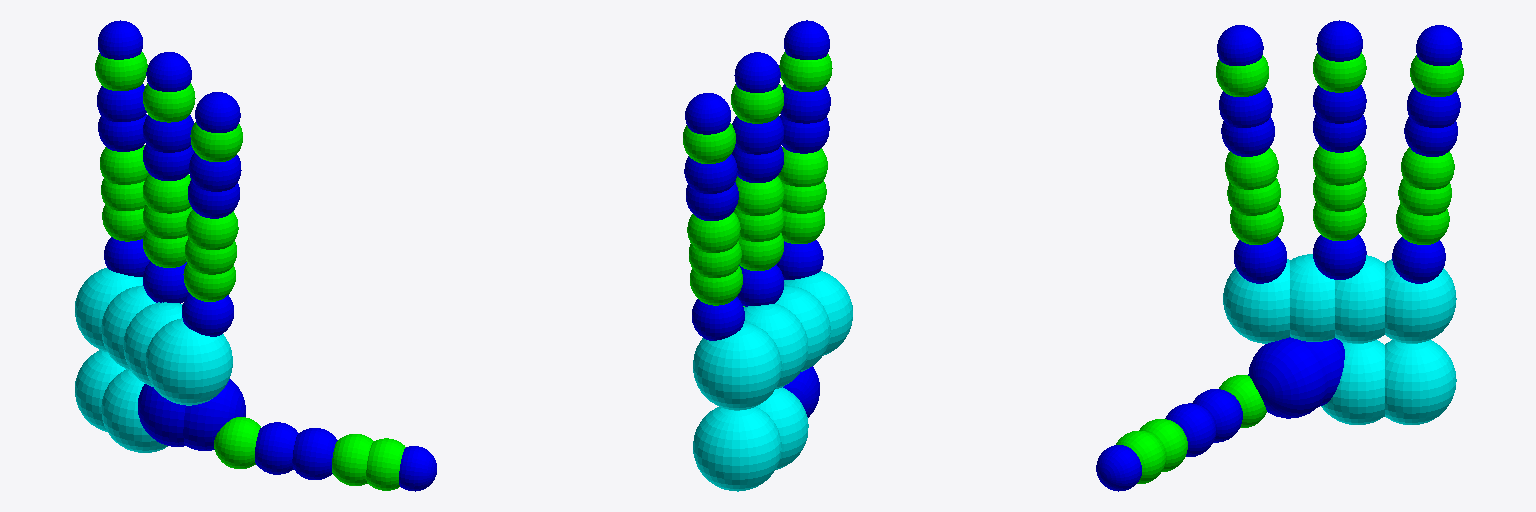
--- Render facts (derived) ---
Views: 3 orthographic renders of the robot side by side, from view 1: azimuth 30°, elevation 25°; view 2: azimuth 150°, elevation 25°; view 3: azimuth 270°, elevation 25°.
Model allegro_left with 67 links and 66 joints (19 revolute, 3 prismatic, 44 fixed), rooted at base_link_x, posed joints at zero except 1 at the middle of their limits (joint_12.0 = 0.8295).
Visible links, largest first — view 1: base_link_collision_ball_5, base_link_collision_ball_2, base_link_collision_ball_1, link_12.0_collision_ball_1, base_link_collision_ball_4, base_link_collision_ball_0, link_12.0_collision_ball_0, base_link_collision_ball_3, link_14.0_collision_ball_1, link_13.0_collision_ball_0, link_14.0_collision_ball_0, link_8.0_collision_ball_0 (+26 smaller); view 2: base_link_collision_ball_0, base_link_collision_ball_1, base_link_collision_ball_3, base_link_collision_ball_2, base_link_collision_ball_5, base_link_collision_ball_4, link_0.0_collision_ball_0, link_1.0_collision_ball_2, link_11.0_collision_ball_0, link_3.0_tip_collision_ball_0, link_7.0_collision_ball_0, link_7.0_tip_collision_ball_0 (+19 smaller); view 3: base_link_collision_ball_0, link_12.0_collision_ball_1, base_link_collision_ball_1, base_link_collision_ball_5, base_link_collision_ball_2, base_link_collision_ball_3, base_link_collision_ball_4, link_4.0_collision_ball_0, link_8.0_collision_ball_0, link_0.0_collision_ball_0, link_1.0_collision_ball_2, link_5.0_collision_ball_2 (+26 smaller).
Boxes of the visible links, x1,y1,x2,y2 form: base_link_collision_ball_5: [145, 318, 232, 405]; base_link_collision_ball_2: [101, 369, 167, 452]; base_link_collision_ball_1: [75, 268, 142, 351]; link_12.0_collision_ball_1: [183, 379, 245, 450]; base_link_collision_ball_4: [123, 302, 182, 386]; base_link_collision_ball_0: [75, 350, 125, 431]; link_12.0_collision_ball_0: [138, 384, 185, 446]; base_link_collision_ball_3: [101, 285, 155, 370]; link_14.0_collision_ball_1: [292, 428, 337, 479]; link_13.0_collision_ball_0: [214, 417, 260, 468]; link_14.0_collision_ball_0: [255, 422, 298, 474]; link_8.0_collision_ball_0: [182, 293, 233, 336]; base_link_collision_ball_0: [693, 407, 781, 491]; base_link_collision_ball_1: [693, 322, 781, 410]; base_link_collision_ball_3: [744, 304, 808, 388]; base_link_collision_ball_2: [756, 387, 808, 469]; base_link_collision_ball_5: [784, 271, 852, 355]; base_link_collision_ball_4: [775, 286, 830, 371]; link_0.0_collision_ball_0: [692, 297, 744, 340]; link_1.0_collision_ball_2: [687, 212, 740, 252]; link_11.0_collision_ball_0: [779, 52, 832, 91]; link_3.0_tip_collision_ball_0: [685, 93, 730, 134]; link_7.0_collision_ball_0: [731, 84, 783, 123]; link_7.0_tip_collision_ball_0: [734, 52, 780, 92]; base_link_collision_ball_0: [1385, 340, 1456, 424]; link_12.0_collision_ball_1: [1248, 337, 1327, 418]; base_link_collision_ball_1: [1385, 259, 1456, 343]; base_link_collision_ball_5: [1223, 259, 1289, 343]; base_link_collision_ball_2: [1321, 340, 1384, 424]; base_link_collision_ball_3: [1335, 255, 1384, 343]; base_link_collision_ball_4: [1290, 254, 1334, 341]; link_4.0_collision_ball_0: [1313, 234, 1366, 279]; link_8.0_collision_ball_0: [1234, 236, 1286, 283]; link_0.0_collision_ball_0: [1392, 237, 1445, 283]; link_1.0_collision_ball_2: [1401, 147, 1454, 189]; link_5.0_collision_ball_2: [1313, 145, 1366, 185].
Bounding box of the posed robot: 0.138 × 0.2044 × 0.2492 m (x, y, z).
0 mesh visuals loaded from 10 distinct referenced files (none loaded); not drawn: 21 (reference not matched to a file when rendering).

URDF robot description (allegro_left):
<?xml version="1.0" encoding="utf-8"?>
<robot name="allegro_left">
  <link name="base_link">
    <inertial>
      <mass value="0.4154"/>
      <origin rpy="0 0 0" xyz="0 0 0"/>
      <inertia ixx="1e-4" ixy="0" ixz="0" iyy="1e-4" iyz="0" izz="1e-4"/>
    </inertial>
    <visual>
      <geometry>
        <mesh filename="meshes/visual/base_link_left.obj"/>
      </geometry>
      <origin rpy="-1.570795 0 0" xyz="0 0 0 "/>
    </visual>
    <collision>
      <origin rpy="0 0 0" xyz="-0.009 0.0 -0.023"/>
      <geometry>
        <box size="0.0414 0.112 0.0448"/>
      </geometry>
    </collision>
    <collision>
      <origin rpy="0 0 0" xyz="-0.009 0.0253 -0.0667"/>
      <geometry>
        <box size="0.0414 0.0538 0.0428"/>
      </geometry>
    </collision>
    <collision>
      <origin rpy="0 0 0" xyz="-0.009300 0.00557 -0.08874"/>
      <geometry>
        <box size="0.0414 0.0720 0.013"/>
      </geometry>
    </collision>
  </link> <!--  virtual link-->

  <link name="base_link_x"/>
  <joint name="dummy_x_translation_joint" type="prismatic">
    <parent link="base_link_x"/>
    <child link="base_link_y"/>
    <origin rpy="0 0 0" xyz="0 0 0"/>
    <axis xyz="1 0 0"/>
    <limit effort="300" lower="-10" upper="10" velocity="2.1750"/>
  </joint>

  <link name="base_link_y"/>
  <joint name="dummy_y_translation_joint" type="prismatic">
    <parent link="base_link_y"/>
    <child link="base_link_z"/>
    <origin rpy="0 0 0" xyz="0 0 0"/>
    <axis xyz="0 1 0"/>
    <limit effort="300" lower="-10" upper="10" velocity="2.1750"/>
  </joint>

  <link name="base_link_z"/>

  <joint name="dummy_z_translation_joint" type="prismatic">
    <parent link="base_link_z"/>
    <child link="base_link_roll"/>
    <origin rpy="0 0 0" xyz="0 0 0"/>
    <axis xyz="0 0 1"/>
    <limit effort="300" lower="-10" upper="10" velocity="2.1750"/>
  </joint>

  <link name="base_link_roll"/>

  <joint name="dummy_x_rotation_joint" type="revolute">
    <parent link="base_link_roll"/>
    <child link="base_link_pitch"/>
    <origin rpy="0 0 0" xyz="0 0 0"/>
    <axis xyz="1 0 0"/>
    <limit effort="100.95" velocity="108.48" lower="-6.283185" upper="6.283185"/>
  </joint>

  <link name="base_link_pitch"/>

  <joint name="dummy_y_rotation_joint" type="revolute">
    <parent link="base_link_pitch"/>
    <child link="base_link_yaw"/>
    <origin rpy="0 0 0" xyz="0 0 0"/>
    <axis xyz="0 1 0"/>
    <limit effort="100.95" velocity="108.48" lower="-6.283185" upper="6.283185"/>
  </joint>

  <link name="base_link_yaw"/>

  <joint name="dummy_z_rotation_joint" type="revolute">
    <parent link="base_link_yaw"/>
    <child link="base_link"/>
    <origin rpy="0 0 0" xyz="0 0 0"/>
    <axis xyz="0 0 1"/>
    <limit effort="100.95" velocity="108.48" lower="-6.283185" upper="6.283185"/>
  </joint>

  
  <link name="palm"/>
  <joint name="palm_joint" type="fixed">
    <parent link="base_link"/>
    <child link="palm"/>
    <origin rpy="0.00000 -0.00000 0.00000" xyz="0 0 -0.065"/>
  </joint> <!--  virtual link-->
   
   <!-- link_param balls -->
  <link name="base_link_collision_ball_0">
    <visual>
      <geometry>
        <sphere radius="0.025"/>
      </geometry>
      <material name="yellow">
      <color rgba="0.0 1.0 1.0 1.0"/>
    </material>
    </visual>
    <collision>
      <geometry>
      <sphere radius="0.025"/>
      </geometry>
    </collision>
  </link>
  <joint name="base_link_collision_ball_0_joint" type="fixed">
    <parent link="base_link"/>
    <child link="base_link_collision_ball_0"/>
    <origin rpy="0 0 0" xyz="-0.01 0.04 -0.075"/>
  </joint>

    <link name="base_link_collision_ball_1">
    <visual>
      <geometry>
        <sphere radius="0.025"/>
      </geometry>
      <material name="yellow">
      <color rgba="0.0 1.0 1.0 1.0"/>
    </material>
    </visual>
    <collision>
      <geometry>
      <sphere radius="0.025"/>
      </geometry>
    </collision>
  </link>
  <joint name="base_link_collision_ball_1_joint" type="fixed">
    <parent link="base_link"/>
    <child link="base_link_collision_ball_1"/>
    <origin rpy="0 0 0" xyz="-0.01 0.04 -0.025"/>
  </joint>

    <link name="base_link_collision_ball_2">
    <visual>
      <geometry>
        <sphere radius="0.025"/>
      </geometry>
      <material name="yellow">
      <color rgba="0.0 1.0 1.0 1.0"/>
    </material>
    </visual>
    <collision>
      <geometry>
      <sphere radius="0.025"/>
      </geometry>
    </collision>
  </link>
  <joint name="base_link_collision_ball_2_joint" type="fixed">
    <parent link="base_link"/>
    <child link="base_link_collision_ball_2"/>
    <origin rpy="0 0 0" xyz="-0.01 0.01 -0.075"/>
  </joint>

    <link name="base_link_collision_ball_3">
    <visual>
      <geometry>
        <sphere radius="0.025"/>
      </geometry>
      <material name="yellow">
      <color rgba="0.0 1.0 1.0 1.0"/>
    </material>
    </visual>
    <collision>
      <geometry>
      <sphere radius="0.025"/>
      </geometry>
    </collision>
  </link>
  <joint name="base_link_collision_ball_3_joint" type="fixed">
    <parent link="base_link"/>
    <child link="base_link_collision_ball_3"/>
    <origin rpy="0 0 0" xyz="-0.01 0.01 -0.025"/>
  </joint>


    <link name="base_link_collision_ball_4">
    <visual>
      <geometry>
        <sphere radius="0.025"/>
      </geometry>
      <material name="yellow">
      <color rgba="0.0 1.0 1.0 1.0"/>
    </material>
    </visual>
    <collision>
      <geometry>
      <sphere radius="0.025"/>
      </geometry>
    </collision>
  </link>
  <joint name="base_link_collision_ball_4_joint" type="fixed">
    <parent link="base_link"/>
    <child link="base_link_collision_ball_4"/>
    <origin rpy="0 0 0" xyz="-0.01 -0.015 -0.025"/>
  </joint>


    <link name="base_link_collision_ball_5">
    <visual>
      <geometry>
        <sphere radius="0.025"/>
      </geometry>
      <material name="yellow">
      <color rgba="0.0 1.0 1.0 1.0"/>
    </material>
    </visual>
    <collision>
      <geometry>
      <sphere radius="0.025"/>
      </geometry>
    </collision>
  </link>
  <joint name="base_link_collision_ball_5_joint" type="fixed">
    <parent link="base_link"/>
    <child link="base_link_collision_ball_5"/>
    <origin rpy="0 0 0" xyz="-0.01 -0.04 -0.025"/>
  </joint>
  <!--  -->

  <link name="wrist"/>
  <joint name="wrist_joint" type="fixed">
    <origin rpy="0 0 0" xyz="0 0 -0.03"/>
    <parent link="palm"/>
    <child link="wrist"/>
  </joint>
  <link name="link_0.0">
    <visual>
      <geometry>
        <mesh filename="meshes/visual/link_0.0.obj"/>
      </geometry>
    </visual>
    <collision>
      <geometry>
        <box size="0.0196 0.0275 0.0164"/>
      </geometry>
      <origin rpy="0 0 0" xyz="0 0 0.0082"/>
    </collision>
    <inertial>
      <mass value="0.0119"/>
      <origin xyz="0 0 0" rpy="0 0 0"/>
      <inertia ixx="1.01666658333e-06" ixy="0.0" ixz="0.0" iyy="6.47677333333e-07" iyz="0.0" izz="1.01666658333e-06"/>
    </inertial>
  </link>
  <joint name="joint_0.0" type="revolute">
    <axis xyz="0 0 1"/>
    <limit effort="10" lower="-0.47" upper="0.47" velocity="3.14"/>
    <parent link="base_link"/>
    <child link="link_0.0"/>
    <origin rpy="-0.08726646255 0 0" xyz="0 0.0435 -0.001542"/>
  </joint>
  
  <!-- link_0.0 balls -->
  <link name="link_0.0_collision_ball_0">
    <visual>
      <geometry>
        <sphere radius="0.0150"/>
      </geometry>
      <material name="blue">
      <color rgba="0.0 0.0 1.0 1.0"/>
    </material>
    </visual>
    <collision>
      <geometry>
      <sphere radius="0.0150"/>
      </geometry>
    </collision>
  </link>
  <joint name="link_0.0_collision_ball_0_joint" type="fixed">
    <parent link="link_0.0"/>
    <child link="link_0.0_collision_ball_0"/>
    <origin rpy="0 0 0" xyz="0.0 0.0 0.007"/>
  </joint>
  <!--  -->

  <link name="link_1.0">
    <inertial>
      <mass value="0.065"/>
      <origin xyz="0 0 0" rpy="0 0 0"/>
      <inertia ixx="7.95654166667e-05" ixy="1.7199e-05" ixz="8.75875e-06" iyy="2.47088833333e-05" iyz="2.413125e-05" izz="7.95654166667e-05"/>
    </inertial>
    <visual>
      <geometry>
        <mesh filename="meshes/visual/link_1.0.obj"/>
      </geometry>
    </visual>
    <collision>
      <geometry>
        <box size="0.0196 0.0275 0.054"/>
      </geometry>
      <origin rpy="0 0 0" xyz="0 0 0.027"/>
    </collision>
  </link>
  <joint name="joint_1.0" type="revolute">
    <limit effort="10" lower="-0.196" upper="1.61" velocity="3.14"/>
    <axis xyz="0 1 0"/>
    <parent link="link_0.0"/>
    <child link="link_1.0"/>
    <origin xyz="0 0 0.0164"/>
  </joint>

 <!-- link_1.0 balls -->
  <link name="link_1.0_collision_ball_0">
    <visual>
      <geometry>
        <sphere radius="0.0150"/>
      </geometry>
      <material name="green">
      <color rgba="0.0 1.0 0.0 1.0"/>
    </material>
    </visual>
    <collision>
      <geometry>
      <sphere radius="0.0150"/>
      </geometry>
    </collision>
  </link>
  <joint name="link_1.0_collision_ball_0_joint" type="fixed">
    <parent link="link_1.0"/>
    <child link="link_1.0_collision_ball_0"/>
    <origin rpy="0 0 0" xyz="0.0 0.0 0.014"/>
  </joint>

  <link name="link_1.0_collision_ball_1">
    <visual>
      <geometry>
      <sphere radius="0.0150"/>
      </geometry>
      <material name="green">
      <color rgba="0.0 1.0 0.0 1.0"/>
      </material>
    </visual>
    <collision>
      <geometry>
      <sphere radius="0.0150"/>
      </geometry>
    </collision>

  </link>
  <joint name="link_1.0_collision_ball_1_joint" type="fixed">
    <parent link="link_1.0"/>
    <child link="link_1.0_collision_ball_1"/>
    <origin rpy="0 0 0" xyz="0 0 0.03"/>
  </joint>

  <link name="link_1.0_collision_ball_2">
    <visual>
      <geometry>
      <sphere radius="0.0150"/>
      </geometry>
      <material name="green">
      <color rgba="0.0 1.0 0.0 1.0"/>
      </material>
    </visual>
    <collision>
      <geometry>
      <sphere radius="0.0150"/>
      </geometry>
    </collision>

  </link>
  <joint name="link_1.0_collision_ball_2_joint" type="fixed">
    <parent link="link_1.0"/>
    <child link="link_1.0_collision_ball_2"/>
    <origin rpy="0 0 0" xyz="0 0 0.046"/>
  </joint>
  <!--  -->

  <link name="link_2.0">
    <inertial>
      <mass value="0.0355"/>
      <origin xyz="0 0 0" rpy="0 0 0"/>
      <inertia ixx="2.63979183333e-05" ixy="6.67968e-06" ixz="4.783625e-06" iyy="1.34948516667e-05" iyz="9.372e-06" izz="2.63979183333e-05"/>
    </inertial>
    <visual>
      <geometry>
        <mesh filename="meshes/visual/link_2.0.obj"/>
      </geometry>
    </visual>
    <collision>
      <geometry>
        <box size="0.0196 0.0275 0.0384"/>
      </geometry>
      <origin rpy="0 0 0" xyz="0 0 0.0192"/>
    </collision>
  </link>
  <joint name="joint_2.0" type="revolute">
    <axis xyz="0 1 0"/>
    <limit effort="10" lower="-0.174" upper="1.709" velocity="3.14"/>
    <parent link="link_1.0"/>
    <child link="link_2.0"/>
    <origin xyz="0 0 0.054"/>
  </joint>

 <!-- link_2.0 balls -->
  <link name="link_2.0_collision_ball_0">
    <visual>
      <geometry>
        <sphere radius="0.0150"/>
      </geometry>
      <material name="blue">
      <color rgba="0.0 0.0 1.0 1.0"/>
    </material>
    </visual>
    <collision>
      <geometry>
      <sphere radius="0.0150"/>
      </geometry>
    </collision>
  </link>
  <joint name="link_2.0_collision_ball_0_joint" type="fixed">
    <parent link="link_2.0"/>
    <child link="link_2.0_collision_ball_0"/>
    <origin rpy="0 0 0" xyz="0.0 0.0 0.014"/>
  </joint>

  <link name="link_2.0_collision_ball_1">
    <visual>
      <geometry>
      <sphere radius="0.0150"/>
      </geometry>
      <material name="blue">
      <color rgba="0.0 0.0 1.0 1.0"/>
      </material>
    </visual>
    <collision>
      <geometry>
      <sphere radius="0.0150"/>
      </geometry>
    </collision>

  </link>
  <joint name="link_2.0_collision_ball_1_joint" type="fixed">
    <parent link="link_2.0"/>
    <child link="link_2.0_collision_ball_1"/>
    <origin rpy="0 0 0" xyz="0 0 0.03"/>
  </joint>
  <!--  -->

  <link name="link_3.0">
    <visual>
      <geometry>
        <mesh filename="meshes/visual/link_3.0.obj"/>
      </geometry>
    </visual>
    <collision>
      <geometry>
        <box size="0.0196 0.0269 0.022"/>
      </geometry>
      <origin rpy="0 0 0" xyz="0 0 0.0047"/>
    </collision>
    <inertial>
      <origin rpy="0 0 0" xyz="0 0 0.01335"/>
      <mass value="0.02"/>
      <inertia ixx="1e-5" ixy="0.0" ixz="0.0" iyy="2e-5" iyz="0.0" izz="2e-5"/>
    </inertial>
  </link>
  <joint name="joint_3.0" type="revolute">
    <axis xyz="0 1 0"/>
    <limit effort="10" lower="-0.227" upper="1.618" velocity="3.14"/>
    <parent link="link_2.0"/>
    <child link="link_3.0"/>
    <origin xyz="0 0 0.0384"/>
  </joint>

  <!-- link_3.0 balls -->
  <link name="link_3.0_collision_ball_0">
    <visual>
      <geometry>
        <sphere radius="0.0150"/>
      </geometry>
      <material name="green">
      <color rgba="0.0 1.0 0.0 1.0"/>
    </material>
    </visual>
    <collision>
      <geometry>
      <sphere radius="0.0150"/>
      </geometry>
    </collision>
  </link>
  <joint name="link_3.0_collision_ball_0_joint" type="fixed">
    <parent link="link_3.0"/>
    <child link="link_3.0_collision_ball_0"/>
    <origin rpy="0 0 0" xyz="0.0 0.0 0.012"/>
  </joint>
  <!--  -->

  <link name="link_3.0_tip">
    <inertial>
      <mass value="0.0168"/>
      <origin xyz="0 0 0" rpy="0 0 0"/>
      <inertia ixx="9.68e-07" ixy="0" ixz="0" iyy="9.68e-07" iyz="0" izz="9.68e-07"/>
    </inertial>
    <visual>
      <geometry>
        <mesh filename="meshes/visual/link_tip.obj"/>
      </geometry>
    </visual>
    <collision>
      <geometry>
        <mesh filename="meshes/collision/link_tip.obj"/>
      </geometry>
    </collision>
  </link>
  <joint name="joint_3.0_tip" type="fixed">
    <parent link="link_3.0"/>
    <child link="link_3.0_tip"/>
    <origin rpy="0 0 0" xyz="0 0 0.0267"/>
  </joint>

   <!-- link_3.0_tip balls -->
  <link name="link_3.0_tip_collision_ball_0">
    <visual>
      <geometry>
        <sphere radius="0.0130"/>
      </geometry>
      <material name="blue">
      <color rgba="0.0 0.0 1.0 1.0"/>
    </material>
    </visual>
    <collision>
      <geometry>
      <sphere radius="0.0130"/>
      </geometry>
    </collision>
  </link>
  <joint name="link_3.0_tip_collision_ball_0_joint" type="fixed">
    <parent link="link_3.0_tip"/>
    <child link="link_3.0_tip_collision_ball_0"/>
    <origin rpy="0 0 0" xyz="0.0 0.0 0.00"/>
  </joint>
  <!--  -->

  <link name="link_4.0">
    <inertial>
      <mass value="0.005"/>
      <origin xyz="0 0 0"/>
      <inertia ixx="5.1458e-05" iyy="5.1458e-05" izz="6.125e-05" ixy="0" ixz="0" iyz="0"/>
    </inertial>
    <visual>
      <geometry>
        <mesh filename="meshes/visual/link_0.0.obj"/>
      </geometry>
    </visual>
    <collision>
      <geometry>
        <box size="0.0196 0.0275 0.0164"/>
      </geometry>
      <origin rpy="0 0 0" xyz="0 0 0.0082"/>
    </collision>
  </link>
  <joint name="joint_4.0" type="revolute">
    <axis xyz="0 0 1"/>
    <limit effort="10" lower="-0.47" upper="0.47" velocity="3.14"/>
    <parent link="base_link"/>
    <child link="link_4.0"/>
    <origin rpy="0.0 0 0" xyz="0 0 0.0007"/>
  </joint>

  <!-- link_4.0 balls -->
  <link name="link_4.0_collision_ball_0">
    <visual>
      <geometry>
        <sphere radius="0.0150"/>
      </geometry>
      <material name="blue">
      <color rgba="0.0 0.0 1.0 1.0"/>
    </material>
    </visual>
    <collision>
      <geometry>
      <sphere radius="0.0150"/>
      </geometry>
    </collision>
  </link>
  <joint name="link_4.0_collision_ball_0_joint" type="fixed">
    <parent link="link_4.0"/>
    <child link="link_4.0_collision_ball_0"/>
    <origin rpy="0 0 0" xyz="0.0 0.0 0.007"/>
  </joint>
  <!--  -->

  <link name="link_5.0">
    <inertial>
      <mass value="0.065"/>
      <origin xyz="0 0 0" rpy="0 0 0"/>
      <inertia ixx="7.95654166667e-05" ixy="1.7199e-05" ixz="8.75875e-06" iyy="2.47088833333e-05" iyz="2.413125e-05" izz="7.95654166667e-05"/>
    </inertial>
    <visual>
      <geometry>
        <mesh filename="meshes/visual/link_1.0.obj"/>
      </geometry>
    </visual>
    <collision>
      <geometry>
        <box size="0.0196 0.0275 0.054"/>
      </geometry>
      <origin rpy="0 0 0" xyz="0 0 0.027"/>
    </collision>
  </link>
  <joint name="joint_5.0" type="revolute">
    <limit effort="10" lower="-0.196" upper="1.61" velocity="3.14"/>
    <axis xyz="0 1 0"/>
    <parent link="link_4.0"/>
    <child link="link_5.0"/>
    <origin xyz="0 0 0.0164"/>
  </joint>

   <!-- link_5.0 balls -->
  <link name="link_5.0_collision_ball_0">
    <visual>
      <geometry>
        <sphere radius="0.0150"/>
      </geometry>
      <material name="green">
      <color rgba="0.0 1.0 0.0 1.0"/>
    </material>
    </visual>
    <collision>
      <geometry>
      <sphere radius="0.0150"/>
      </geometry>
    </collision>
  </link>
  <joint name="link_5.0_collision_ball_0_joint" type="fixed">
    <parent link="link_5.0"/>
    <child link="link_5.0_collision_ball_0"/>
    <origin rpy="0 0 0" xyz="0.0 0.0 0.014"/>
  </joint>

  <link name="link_5.0_collision_ball_1">
    <visual>
      <geometry>
      <sphere radius="0.0150"/>
      </geometry>
      <material name="green">
      <color rgba="0.0 1.0 0.0 1.0"/>
      </material>
    </visual>
    <collision>
      <geometry>
      <sphere radius="0.0150"/>
      </geometry>
    </collision>

  </link>
  <joint name="link_5.0_collision_ball_1_joint" type="fixed">
    <parent link="link_5.0"/>
    <child link="link_5.0_collision_ball_1"/>
    <origin rpy="0 0 0" xyz="0 0 0.03"/>
  </joint>

  <link name="link_5.0_collision_ball_2">
    <visual>
      <geometry>
      <sphere radius="0.0150"/>
      </geometry>
      <material name="green">
      <color rgba="0.0 1.0 0.0 1.0"/>
      </material>
    </visual>
    <collision>
      <geometry>
      <sphere radius="0.0150"/>
      </geometry>
    </collision>

  </link>
  <joint name="link_5.0_collision_ball_2_joint" type="fixed">
    <parent link="link_5.0"/>
    <child link="link_5.0_collision_ball_2"/>
    <origin rpy="0 0 0" xyz="0 0 0.046"/>
  </joint>
  <!--  -->

  <link name="link_6.0">
    <inertial>
      <mass value="0.0355"/>
      <origin xyz="0 0 0" rpy="0 0 0"/>
      <inertia ixx="2.63979183333e-05" ixy="6.67968e-06" ixz="4.783625e-06" iyy="1.34948516667e-05" iyz="9.372e-06" izz="2.63979183333e-05"/>
    </inertial>
    <visual>
      <geometry>
        <mesh filename="meshes/visual/link_2.0.obj"/>
      </geometry>
    </visual>
    <collision>
      <geometry>
        <box size="0.0196 0.0275 0.0384"/>
      </geometry>
      <origin rpy="0 0 0" xyz="0 0 0.0192"/>
    </collision>
  </link>
  <joint name="joint_6.0" type="revolute">
    <axis xyz="0 1 0"/>
    <limit effort="10" lower="-0.174" upper="1.709" velocity="3.14"/>
    <parent link="link_5.0"/>
    <child link="link_6.0"/>
    <origin xyz="0 0 0.054"/>
  </joint>

   <!-- link_6.0 balls -->
  <link name="link_6.0_collision_ball_0">
    <visual>
      <geometry>
        <sphere radius="0.0150"/>
      </geometry>
      <material name="blue">
      <color rgba="0.0 0.0 1.0 1.0"/>
    </material>
    </visual>
    <collision>
      <geometry>
      <sphere radius="0.0150"/>
      </geometry>
    </collision>
  </link>
  <joint name="link_6.0_collision_ball_0_joint" type="fixed">
    <parent link="link_6.0"/>
    <child link="link_6.0_collision_ball_0"/>
    <origin rpy="0 0 0" xyz="0.0 0.0 0.014"/>
  </joint>

  <link name="link_6.0_collision_ball_1">
    <visual>
      <geometry>
      <sphere radius="0.0150"/>
      </geometry>
      <material name="blue">
      <color rgba="0.0 0.0 1.0 1.0"/>
      </material>
    </visual>
    <collision>
      <geometry>
      <sphere radius="0.0150"/>
      </geometry>
    </collision>

  </link>
  <joint name="link_6.0_collision_ball_1_joint" type="fixed">
    <parent link="link_6.0"/>
    <child link="link_6.0_collision_ball_1"/>
    <origin rpy="0 0 0" xyz="0 0 0.03"/>
  </joint>
  <!--  -->

  <link name="link_7.0">
    <inertial>
      <mass value="0.0388"/>
      <origin xyz="0 0 0" rpy="0 0 0"/>
      <inertia ixx="3.29223173333e-05" ixy="8.042076e-06" ixz="5.2283e-06" iyy="1.47493026667e-5" iyz="1.1283525e-5" izz="3.29223173333e-05"/>
    </inertial>
    <visual>
      <geometry>
        <mesh filename="meshes/visual/link_3.0.obj"/>
      </geometry>
    </visual>
    <collision>
      <geometry>
        <box size="0.0196 0.0269 0.022"/>
      </geometry>
      <origin rpy="0 0 0" xyz="0 0 0.0047"/>
    </collision>
  </link>
  <joint name="joint_7.0" type="revolute">
    <axis xyz="0 1 0"/>
    <limit effort="10" lower="-0.227" upper="1.618" velocity="3.14"/>
    <parent link="link_6.0"/>
    <child link="link_7.0"/>
    <origin xyz="0 0 0.0384"/>
  </joint>

  <!-- link_7.0 balls -->
  <link name="link_7.0_collision_ball_0">
    <visual>
      <geometry>
        <sphere radius="0.0150"/>
      </geometry>
      <material name="green">
      <color rgba="0.0 1.0 0.0 1.0"/>
    </material>
    </visual>
    <collision>
      <geometry>
      <sphere radius="0.0150"/>
      </geometry>
    </collision>
  </link>
  <joint name="link_7.0_collision_ball_0_joint" type="fixed">
    <parent link="link_7.0"/>
    <child link="link_7.0_collision_ball_0"/>
    <origin rpy="0 0 0" xyz="0.0 0.0 0.012"/>
  </joint>
  <!--  -->

  <link name="link_7.0_tip">
    <inertial>
      <mass value="0.0096"/>
      <origin xyz="0 0 0" rpy="0 0 0"/>
      <inertia ixx="4.701248e-06" ixy="1.255968e-06" ixz="1.2936e-06" iyy="3.649312e-06" iyz="1.7622e-06" izz="4.701248e-06"/>
    </inertial>
    <visual>
      <geometry>
        <mesh filename="meshes/visual/link_tip.obj"/>
      </geometry>
    </visual>
    <collision>
      <geometry>
        <mesh filename="meshes/collision/link_tip.obj"/>
      </geometry>
    </collision>
  </link>
  <joint name="joint_7.0_tip" type="fixed">
    <parent link="link_7.0"/>
    <child link="link_7.0_tip"/>
    <origin rpy="0 0 0" xyz="0 0 0.0267"/>
  </joint>

  <!-- link_7.0_tip balls -->
  <link name="link_7.0_tip_collision_ball_0">
    <visual>
      <geometry>
        <sphere radius="0.013"/>
      </geometry>
      <material name="blue">
      <color rgba="0.0 0.0 1.0 1.0"/>
    </material>
    </visual>
    <collision>
      <geometry>
      <sphere radius="0.013"/>
      </geometry>
    </collision>
  </link>
  <joint name="link_7.0_tip_collision_ball_0_joint" type="fixed">
    <parent link="link_7.0_tip"/>
    <child link="link_7.0_tip_collision_ball_0"/>
    <origin rpy="0 0 0" xyz="0.0 0.0 0.00"/>
  </joint>
  <!--  -->

  <link name="link_8.0">
    <inertial>
      <mass value="0.005"/>
      <origin xyz="0 0 0"/>
      <inertia ixx="5.1458e-05" iyy="5.1458e-05" izz="6.125e-05" ixy="0" ixz="0" iyz="0"/>
    </inertial>
    <visual>
      <geometry>
        <mesh filename="meshes/visual/link_0.0.obj"/>
      </geometry>
    </visual>
    <collision>
      <geometry>
        <box size="0.0196 0.0275 0.0164"/>
      </geometry>
      <origin rpy="0 0 0" xyz="0 0 0.0082"/>
    </collision>
  </link>
  <joint name="joint_8.0" type="revolute">
    <axis xyz="0 0 1"/>
    <limit effort="10" lower="-0.47" upper="0.47" velocity="3.14"/>
    <parent link="base_link"/>
    <child link="link_8.0"/>
    <origin rpy="0.08726646255 0 0" xyz="0 -0.0435 -0.001542"/>
  </joint>

  <!-- link_8.0 balls -->
  <link name="link_8.0_collision_ball_0">
    <visual>
      <geometry>
        <sphere radius="0.0150"/>
      </geometry>
      <material name="blue">
      <color rgba="0.0 0.0 1.0 1.0"/>
    </material>
    </visual>
    <collision>
      <geometry>
      <sphere radius="0.0150"/>
      </geometry>
    </collision>
  </link>
  <joint name="link_8.0_collision_ball_0_joint" type="fixed">
    <parent link="link_8.0"/>
    <child link="link_8.0_collision_ball_0"/>
    <origin rpy="0 0 0" xyz="0.0 0.0 0.007"/>
  </joint>
  <!--  -->

  <link name="link_9.0">
    <inertial>
      <mass value="0.065"/>
      <origin xyz="0 0 0" rpy="0 0 0"/>
      <inertia ixx="7.95654166667e-05" ixy="1.7199e-05" ixz="8.75875e-06" iyy="2.47088833333e-05" iyz="2.413125e-05" izz="7.95654166667e-05"/>
    </inertial>
    <visual>
      <geometry>
        <mesh filename="meshes/visual/link_1.0.obj"/>
      </geometry>
    </visual>
    <collision>
      <geometry>
        <box size="0.0196 0.0275 0.054"/>
      </geometry>
      <origin rpy="0 0 0" xyz="0 0 0.027"/>
    </collision>
  </link>
  <joint name="joint_9.0" type="revolute">
    <limit effort="10" lower="-0.196" upper="1.61" velocity="3.14"/>
    <axis xyz="0 1 0"/>
    <parent link="link_8.0"/>
    <child link="link_9.0"/>
    <origin xyz="0 0 0.0164"/>
  </joint>

  <!-- link_9.0 balls -->
  <link name="link_9.0_collision_ball_0">
    <visual>
      <geometry>
        <sphere radius="0.0150"/>
      </geometry>
      <material name="green">
      <color rgba="0.0 1.0 0.0 1.0"/>
    </material>
    </visual>
    <collision>
      <geometry>
      <sphere radius="0.0150"/>
      </geometry>
    </collision>
  </link>
  <joint name="link_9.0_collision_ball_0_joint" type="fixed">
    <parent link="link_9.0"/>
    <child link="link_9.0_collision_ball_0"/>
    <origin rpy="0 0 0" xyz="0.0 0.0 0.014"/>
  </joint>

  <link name="link_9.0_collision_ball_1">
    <visual>
      <geometry>
      <sphere radius="0.0150"/>
      </geometry>
      <material name="green">
      <color rgba="0.0 1.0 0.0 1.0"/>
      </material>
    </visual>
    <collision>
      <geometry>
      <sphere radius="0.0150"/>
      </geometry>
    </collision>

  </link>
  <joint name="link_9.0_collision_ball_1_joint" type="fixed">
    <parent link="link_9.0"/>
    <child link="link_9.0_collision_ball_1"/>
    <origin rpy="0 0 0" xyz="0 0 0.03"/>
  </joint>

  <link name="link_9.0_collision_ball_2">
    <visual>
      <geometry>
      <sphere radius="0.0150"/>
      </geometry>
      <material name="green">
      <color rgba="0.0 1.0 0.0 1.0"/>
      </material>
    </visual>
    <collision>
      <geometry>
      <sphere radius="0.0150"/>
      </geometry>
    </collision>

  </link>
  <joint name="link_9.0_collision_ball_2_joint" type="fixed">
    <parent link="link_9.0"/>
    <child link="link_9.0_collision_ball_2"/>
    <origin rpy="0 0 0" xyz="0 0 0.046"/>
  </joint>
  <!--  -->

  <link name="link_10.0">
    <inertial>
      <mass value="0.0355"/>
      <origin xyz="0 0 0" rpy="0 0 0"/>
      <inertia ixx="2.63979183333e-05" ixy="6.67968e-06" ixz="4.783625e-06" iyy="1.34948516667e-05" iyz="9.372e-06" izz="2.63979183333e-05"/>
    </inertial>
    <visual>
      <geometry>
        <mesh filename="meshes/visual/link_2.0.obj"/>
      </geometry>
    </visual>
    <collision>
      <geometry>
        <box size="0.0196 0.0275 0.0384"/>
      </geometry>
      <origin rpy="0 0 0" xyz="0 0 0.0192"/>
    </collision>
  </link>
  <joint name="joint_10.0" type="revolute">
    <axis xyz="0 1 0"/>
    <limit effort="10" lower="-0.174" upper="1.709" velocity="3.14"/>
    <parent link="link_9.0"/>
    <child link="link_10.0"/>
    <origin xyz="0 0 0.054"/>
  </joint>

  <!-- link_10.0 balls -->
  <link name="link_10.0_collision_ball_0">
    <visual>
      <geometry>
        <sphere radius="0.0150"/>
      </geometry>
      <material name="blue">
      <color rgba="0.0 0.0 1.0 1.0"/>
    </material>
    </visual>
    <collision>
      <geometry>
      <sphere radius="0.0150"/>
      </geometry>
    </collision>
  </link>
  <joint name="link_10.0_collision_ball_0_joint" type="fixed">
    <parent link="link_10.0"/>
    <child link="link_10.0_collision_ball_0"/>
    <origin rpy="0 0 0" xyz="0.0 0.0 0.014"/>
  </joint>

  <link name="link_10.0_collision_ball_1">
    <visual>
      <geometry>
      <sphere radius="0.0150"/>
      </geometry>
      <material name="blue">
      <color rgba="0.0 0.0 1.0 1.0"/>
      </material>
    </visual>
    <collision>
      <geometry>
      <sphere radius="0.0150"/>
      </geometry>
    </collision>

  </link>
  <joint name="link_10.0_collision_ball_1_joint" type="fixed">
    <parent link="link_10.0"/>
    <child link="link_10.0_collision_ball_1"/>
    <origin rpy="0 0 0" xyz="0 0 0.03"/>
  </joint>
  <!--  -->

  <link name="link_11.0">
    <inertial>
      <mass value="0.0096"/>
      <origin xyz="0 0 0" rpy="0 0 0"/>
      <inertia ixx="4.701248e-06" ixy="1.255968e-06" ixz="1.2936e-06" iyy="3.649312e-06" iyz="1.7622e-06" izz="4.701248e-06"/>
    </inertial>
    <visual>
      <geometry>
        <mesh filename="meshes/visual/link_3.0.obj"/>
      </geometry>
    </visual>
    <collision>
      <geometry>
        <box size="0.0196 0.0269 0.022"/>
      </geometry>
      <origin rpy="0 0 0" xyz="0 0 0.0047"/>
    </collision>
  </link>
  <joint name="joint_11.0" type="revolute">
    <axis xyz="0 1 0"/>
    <limit effort="10" lower="-0.227" upper="1.618" velocity="3.14"/>
    <parent link="link_10.0"/>
    <child link="link_11.0"/>
    <origin xyz="0 0 0.0384"/>
  </joint>

  <!-- link_11.0 balls -->
  <link name="link_11.0_collision_ball_0">
    <visual>
      <geometry>
        <sphere radius="0.0150"/>
      </geometry>
      <material name="green">
      <color rgba="0.0 1.0 0.0 1.0"/>
    </material>
    </visual>
    <collision>
      <geometry>
      <sphere radius="0.0150"/>
      </geometry>
    </collision>
  </link>
  <joint name="link_11.0_collision_ball_0_joint" type="fixed">
    <parent link="link_11.0"/>
    <child link="link_11.0_collision_ball_0"/>
    <origin rpy="0 0 0" xyz="0.0 0.0 0.012"/>
  </joint>
   <!--  -->

  <link name="link_11.0_tip">
    <inertial>
      <mass value="0.0168"/>
      <origin xyz="0 0 0" rpy="0 0 0"/>
      <inertia ixx="9.68e-07" ixy="0" ixz="0" iyy="9.68e-07" iyz="0" izz="9.68e-07"/>
    </inertial>
    <visual>
      <geometry>
        <mesh filename="meshes/visual/link_tip.obj"/>
      </geometry>
    </visual>
    <collision>
      <geometry>
        <mesh filename="meshes/collision/link_tip.obj"/>
      </geometry>
    </collision>
  </link>
  <joint name="joint_11.0_tip" type="fixed">
    <parent link="link_11.0"/>
    <child link="link_11.0_tip"/>
    <origin rpy="0 0 0" xyz="0 0 0.0267"/>
  </joint> <!-- THUMB -->

  <!-- link_11.0_tip balls -->
  <link name="link_11.0_tip_collision_ball_0">
    <visual>
      <geometry>
        <sphere radius="0.013"/>
      </geometry>
      <material name="blue">
      <color rgba="0.0 0.0 1.0 1.0"/>
    </material>
    </visual>
    <collision>
      <geometry>
      <sphere radius="0.013"/>
      </geometry>
    </collision>
  </link>
  <joint name="link_11.0_tip_collision_ball_0_joint" type="fixed">
    <parent link="link_11.0_tip"/>
    <child link="link_11.0_tip_collision_ball_0"/>
    <origin rpy="0 0 0" xyz="0.0 0.0 0.00"/>
  </joint>
  <!--  -->

  <link name="link_12.0">
    <inertial>
      <mass value="0.0176"/>
      <origin xyz="0 0 0" rpy="0 0 0"/>
      <inertia ixx="1.89273333333e-5" ixy="7.16716e-06" ixz="5.35568e-06" iyy="1.43008213333e-05" iyz="6.8068e-06" izz="1.89273333333e-05"/>
    </inertial>
    <visual>
      <geometry>
        <mesh filename="meshes/visual/link_12.0_left.obj"/>
      </geometry>
      <origin rpy="3.14159 0 0" xyz="0 0 0"/>
    </visual>
    <collision>
      <geometry>
        <box size="0.0358 0.034 0.0455"/>
      </geometry>
      <!-- <origin rpy="0 0 0" xyz="-0.0179 0.009 0.0145"/> -->
      <origin rpy="0 0 0" xyz="-0.0179 -0.009 0.0145"/>
    </collision>
  </link>
  <joint name="joint_12.0" type="revolute">
    <axis xyz="1 0 0"/>
    <limit effort="10" lower="0.263" upper="1.396" velocity="3.14"/>
    <parent link="base_link"/>
    <child link="link_12.0"/>
    <origin xyz="-0.0182 -0.019333 -0.045987" rpy="0 -1.65806278845 1.5707963259"/>
  </joint>

  <!-- link_12.0 balls -->
  <link name="link_12.0_collision_ball_0">
    <visual>
      <geometry>
        <sphere radius="0.023"/>
      </geometry>
      <material name="blue">
      <color rgba="0.0 0.0 1.0 1.0"/>
    </material>
    </visual>
    <collision>
      <geometry>
      <sphere radius="0.023"/>
      </geometry>
    </collision>
  </link>
  <joint name="link_12.0_collision_ball_0_joint" type="fixed">
    <parent link="link_12.0"/>
    <child link="link_12.0_collision_ball_0"/>
    <origin rpy="0 0 0" xyz="-0.018 -0.01 0.01"/>
  </joint>
    <link name="link_12.0_collision_ball_1">
    <visual>
      <geometry>
        <sphere radius="0.023"/>
      </geometry>
      <material name="blue">
      <color rgba="0.0 0.0 1.0 1.0"/>
    </material>
    </visual>
    <collision>
      <geometry>
      <sphere radius="0.023"/>
      </geometry>
    </collision>
  </link>
  <joint name="link_12.0_collision_ball_1_joint" type="fixed">
    <parent link="link_12.0"/>
    <child link="link_12.0_collision_ball_1"/>
    <origin rpy="0 0 0" xyz="-0.018 -0.01 0.026"/>
  </joint>
  <!--  -->


  <link name="link_13.0">
    <inertial>
      <mass value="0.0119"/>
      <origin xyz="0 0 0" rpy="0 0 0"/>
      <inertia ixx="4.24250866667e-06" ixy="1.032087e-06" ixz="1.603525e-06" iyy="4.52362633333e-06" iyz="1.44808125e-06" izz="4.24250866667e-06"/>
    </inertial>
    <visual>
      <geometry>
        <mesh filename="meshes/visual/link_13.0.obj"/>
      </geometry>
    </visual>
    <collision>
      <geometry>
        <box size="0.0196 0.0275 0.0177"/>
      </geometry>
      <origin rpy="0 0 0" xyz="0 0 0.00885"/>
    </collision>
  </link>
  <joint name="joint_13.0" type="revolute">
    <axis xyz="0 0 -1"/>
    <limit effort="10" lower="-0.105" upper="1.163" velocity="3.14"/>
    <parent link="link_12.0"/>
    <child link="link_13.0"/>
    <origin xyz="-0.027 0.005 0.0399"/>
  </joint>

  <!-- link_13.0 balls -->
  <link name="link_13.0_collision_ball_0">
    <visual>
      <geometry>
        <sphere radius="0.0150"/>
      </geometry>
      <material name="green">
      <color rgba="0.0 1.0 0.0 1.0"/>
    </material>
    </visual>
    <collision>
      <geometry>
      <sphere radius="0.0150"/>
      </geometry>
    </collision>
  </link>
  <joint name="link_13.0_collision_ball_0_joint" type="fixed">
    <parent link="link_13.0"/>
    <child link="link_13.0_collision_ball_0"/>
    <origin rpy="0 0 0" xyz="0.0 0.0 0.010"/>
  </joint>
  <!--  -->

  <link name="link_14.0">
    <inertial>
      <mass value="0.038"/>
      <origin xyz="0 0 0" rpy="0 0 0"/>
      <inertia ixx="4.30439933333e-05" ixy="9.57068e-06" ixz="5.1205e-06" iyy="1.44451933333e-05" iyz="1.342825e-05" izz="4.30439933333e-05"/>
    </inertial>
    <visual>
      <geometry>
        <mesh filename="meshes/visual/link_14.0.obj"/>
      </geometry>
    </visual>
    <collision>
      <geometry>
        <box size="0.0196 0.0275 0.0514"/>
      </geometry>
      <origin rpy="0 0 0" xyz="0 0 0.0257"/>
    </collision>
  </link>
  <joint name="joint_14.0" type="revolute">
    <axis xyz="0 1 0"/>
    <limit effort="10" lower="-0.189" upper="1.644" velocity="3.14"/>
    <parent link="link_13.0"/>
    <child link="link_14.0"/>
    <origin xyz="0 0 0.0177"/>
  </joint>

  <!-- link_14.0 balls -->
  <link name="link_14.0_collision_ball_0">
    <visual>
      <geometry>
        <sphere radius="0.0150"/>
      </geometry>
      <material name="blue">
      <color rgba="0.0 0.0 1.0 1.0"/>
    </material>
    </visual>
    <collision>
      <geometry>
      <sphere radius="0.0150"/>
      </geometry>
    </collision>
  </link>
  <joint name="link_14.0_collision_ball_0_joint" type="fixed">
    <parent link="link_14.0"/>
    <child link="link_14.0_collision_ball_0"/>
    <origin rpy="0 0 0" xyz="0.0 0.0 0.014"/>
  </joint>

  <link name="link_14.0_collision_ball_1">
    <visual>
      <geometry>
      <sphere radius="0.0150"/>
      </geometry>
      <material name="blue">
      <color rgba="0.0 0.0 1.0 1.0"/>
      </material>
    </visual>
    <collision>
      <geometry>
      <sphere radius="0.0150"/>
      </geometry>
    </collision>

  </link>
  <joint name="link_14.0_collision_ball_1_joint" type="fixed">
    <parent link="link_14.0"/>
    <child link="link_14.0_collision_ball_1"/>
    <origin rpy="0 0 0" xyz="0 0 0.036"/>
  </joint>
  <!--  -->

  <link name="link_15.0">
    <inertial>
      <mass value="0.0388"/>
      <origin xyz="0 0 0" rpy="0 0 0"/>
      <inertia ixx="3.29223173333e-05" ixy="8.042076e-06" ixz="5.2283e-06" iyy="1.47493026667e-5" iyz="1.1283525e-5" izz="3.29223173333e-05"/>
    </inertial>
    <visual>
      <geometry>
        <mesh filename="meshes/visual/link_15.0.obj"/>
      </geometry>
    </visual>
    <collision>
      <geometry>
        <box size="0.0196 0.0269 0.04"/>
      </geometry>
      <origin rpy="0 0 0" xyz="0 0 0.01125"/>
    </collision>
  </link>
  <joint name="joint_15.0" type="revolute">
    <axis xyz="0 1 0"/>
    <limit effort="10" lower="-0.162" upper="1.719" velocity="3.14"/>
    <parent link="link_14.0"/>
    <child link="link_15.0"/>
    <origin xyz="0 0 0.0514"/>
  </joint>

  <!-- link_15.0 balls -->
  <link name="link_15.0_collision_ball_0">
    <visual>
      <geometry>
        <sphere radius="0.0150"/>
      </geometry>
      <material name="green">
      <color rgba="0.0 1.0 0.0 1.0"/>
    </material>
    </visual>
    <collision>
      <geometry>
      <sphere radius="0.0150"/>
      </geometry>
    </collision>
  </link>

  <joint name="link_15.0_collision_ball_0_joint" type="fixed">
    <parent link="link_15.0"/>
    <child link="link_15.0_collision_ball_0"/>
    <origin rpy="0 0 0" xyz="0.0 0.0 0.008"/>
  </joint>

    <link name="link_15.0_collision_ball_1">
    <visual>
      <geometry>
        <sphere radius="0.0150"/>
      </geometry>
      <material name="green">
      <color rgba="0.0 1.0 0.0 1.0"/>
    </material>
    </visual>
    <collision>
      <geometry>
      <sphere radius="0.0150"/>
      </geometry>
    </collision>
  </link>
  <joint name="link_15.0_collision_ball_1_joint" type="fixed">
    <parent link="link_15.0"/>
    <child link="link_15.0_collision_ball_1"/>
    <origin rpy="0 0 0" xyz="0.0 0.0 0.026"/>
  </joint>
  <!--  -->

  <link name="link_15.0_tip">
    <inertial>
      <mass value="0.0168"/>
      <origin xyz="0 0 0" rpy="0 0 0"/>
      <inertia ixx="9.68e-07" ixy="0" ixz="0" iyy="9.68e-07" iyz="0" izz="9.68e-07"/>
    </inertial>
    <visual>
      <geometry>
        <mesh filename="meshes/visual/link_tip.obj"/>
      </geometry>
    </visual>
    <collision>
      <geometry>
        <mesh filename="meshes/collision/link_tip.obj"/>
      </geometry>
    </collision>
  </link>
  <joint name="joint_15.0_tip" type="fixed">
    <parent link="link_15.0"/>
    <child link="link_15.0_tip"/>
    <origin rpy="0 0 0" xyz="0 0 0.0423"/>
  </joint>

  <!-- link_15.0_tip balls -->
  <link name="link_15.0_tip_collision_ball_0">
    <visual>
      <geometry>
        <sphere radius="0.013"/>
      </geometry>
      <material name="blue">
      <color rgba="0.0 0.0 1.0 1.0"/>
    </material>
    </visual>
    <collision>
      <geometry>
      <sphere radius="0.013"/>
      </geometry>
    </collision>
  </link>
  <joint name="link_15.0_tip_collision_ball_0_joint" type="fixed">
    <parent link="link_15.0_tip"/>
    <child link="link_15.0_tip_collision_ball_0"/>
    <origin rpy="0 0 0" xyz="0.0 0.0 0.00"/>
  </joint>
  <!--  -->
  
</robot>
